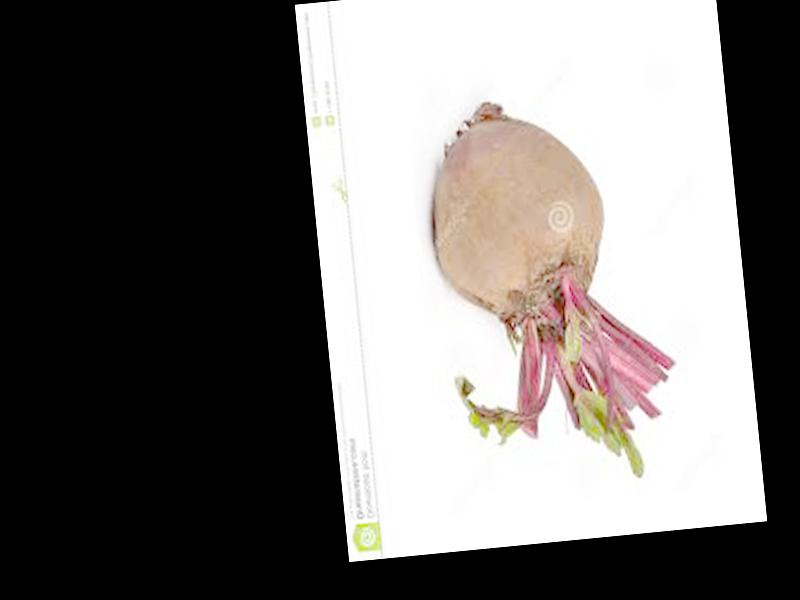Beet: (423, 86, 683, 492)
